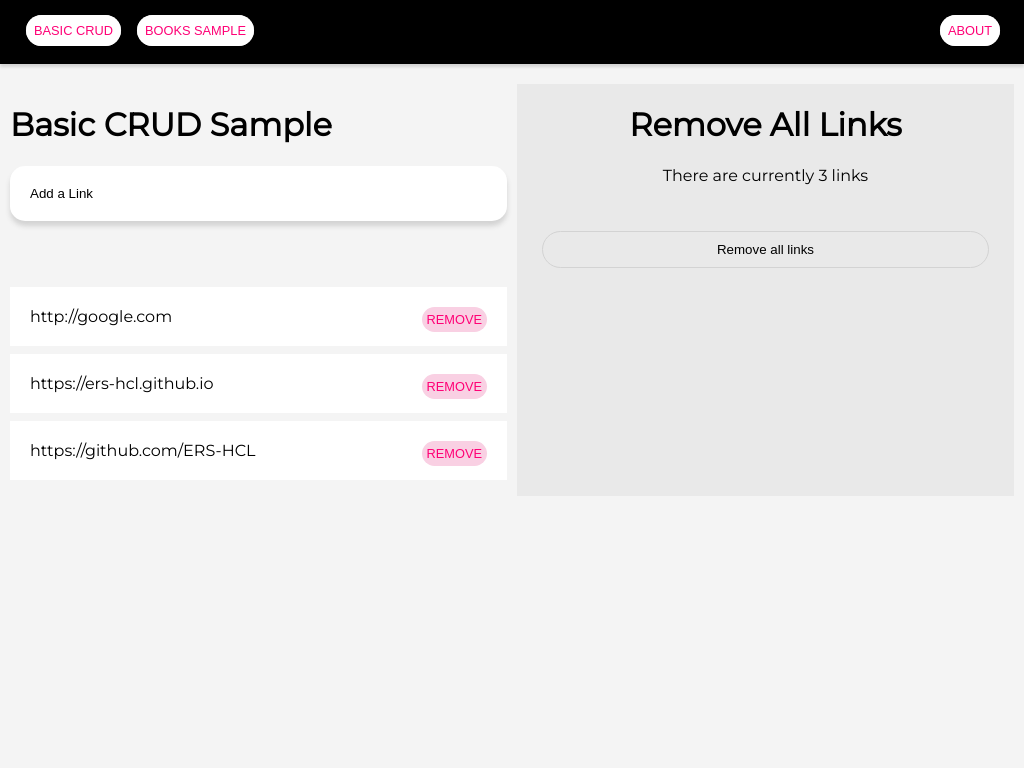
Scenario: Crud tests › Form submission › Adds a new url on submit
The width and height of the screenshot is (1024, 768).
Type "www.github.com" into the field with class "link-input".
click(259, 194); type("www.github.com")  # box [10,166,507,221]
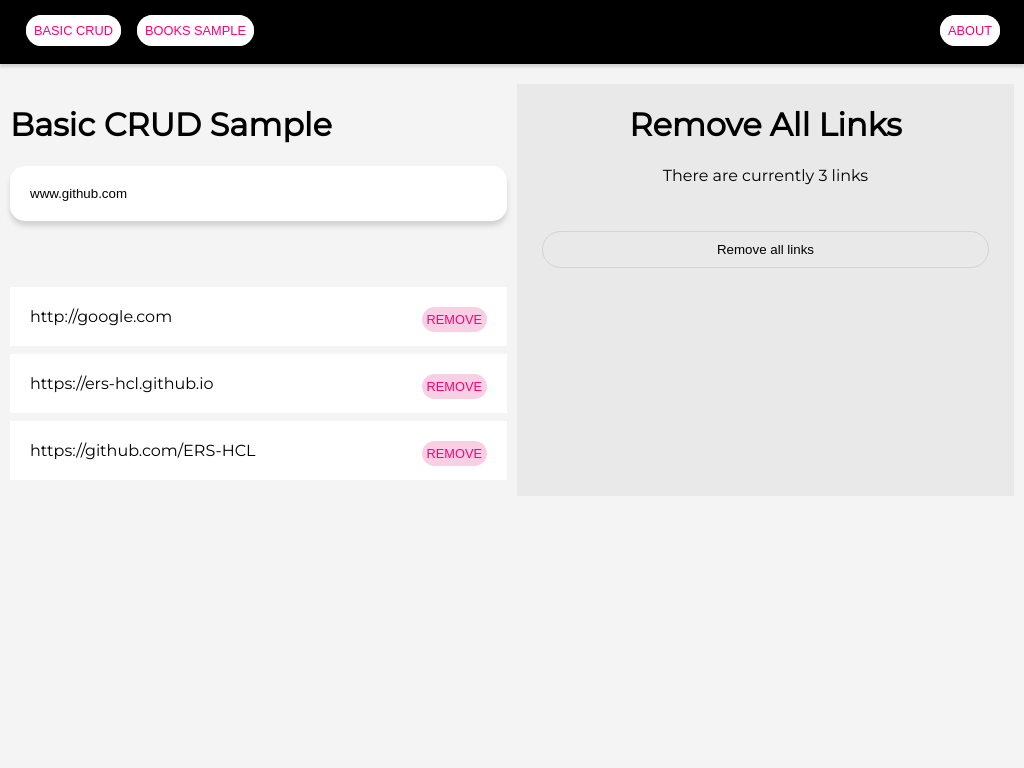
Press Enter in the field with class "link-input", box [10,166,507,221]
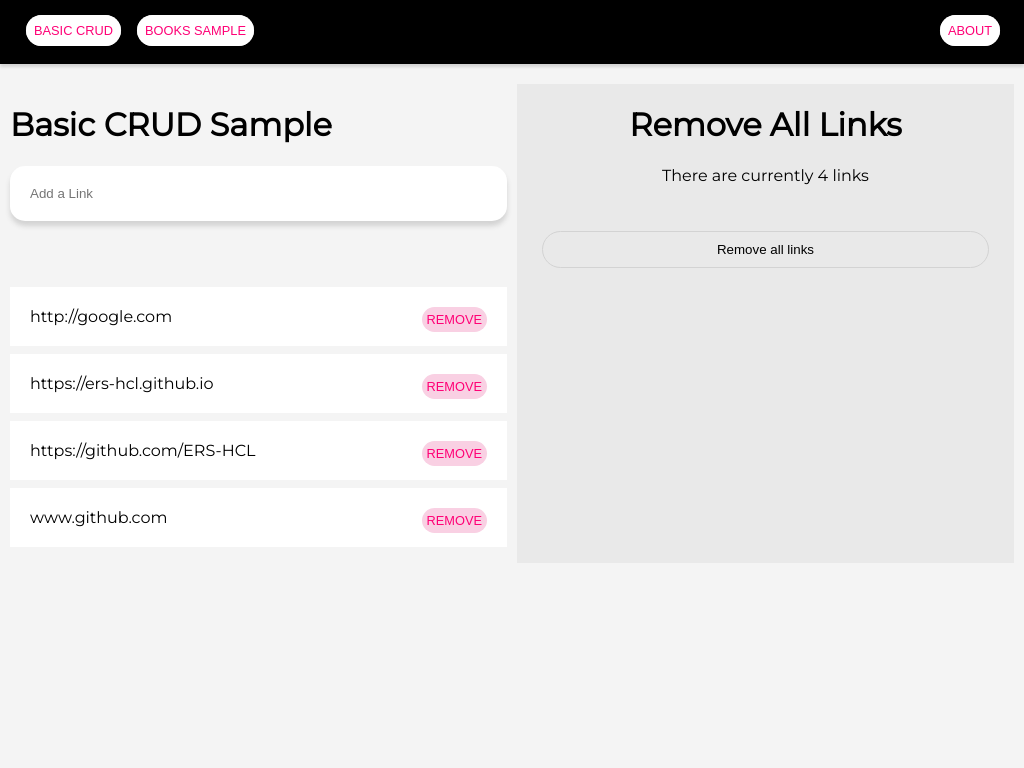
Expected: the number of list items is 4, [10,287,507,346]; [10,354,507,413]; [10,421,507,480]; [10,488,507,547]
Expected: the list item "www.github.com Remove" is shown, [10,488,507,547]
